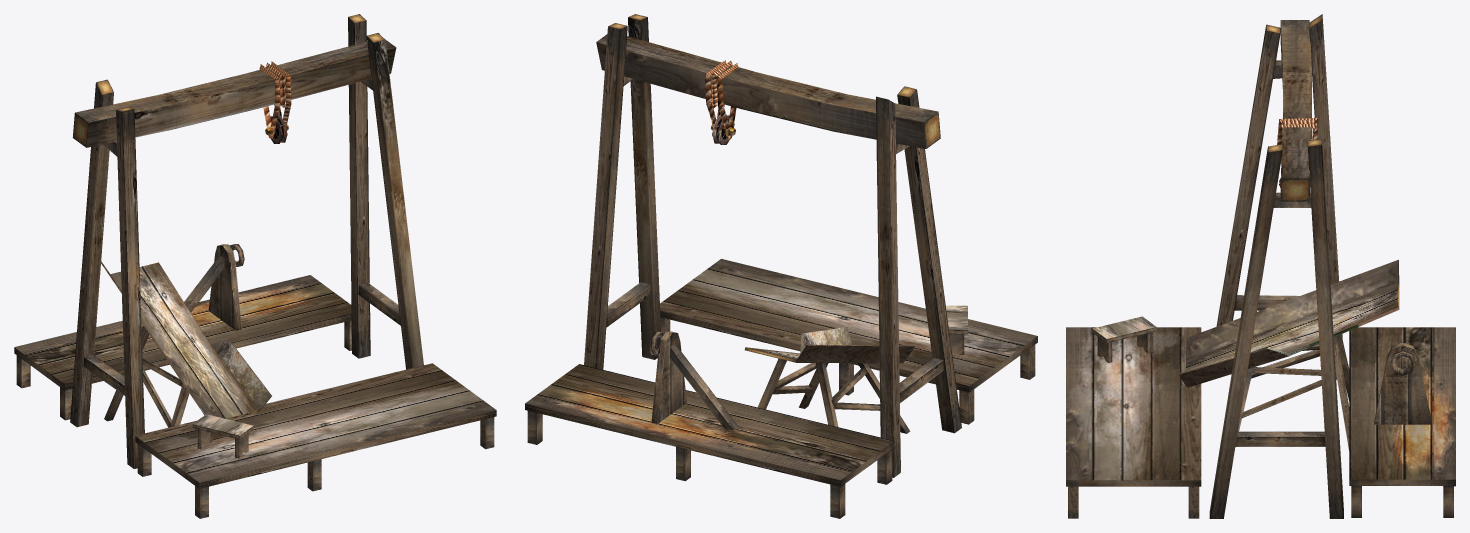
Rendered from building_quarry.glb.
The picture shows the model from 3 angles, left to right: view 1: azimuth 30°, elevation 25°; view 2: azimuth 150°, elevation 25°; view 3: azimuth 270°, elevation 25°; orthographic projection. The views are drawn at different scales.
Parts seen in each view (by area): view 1: building_quarry; view 2: building_quarry; view 3: building_quarry.
Part boxes in pixels (x1,y1,x2,y2): building_quarry: (14, 14, 496, 518); building_quarry: (525, 14, 1037, 518); building_quarry: (1066, 14, 1455, 518).
Size of the model in its own units: 5.23 by 5.81 by 5.41.
Materials: 6 (6 with a texture image).
